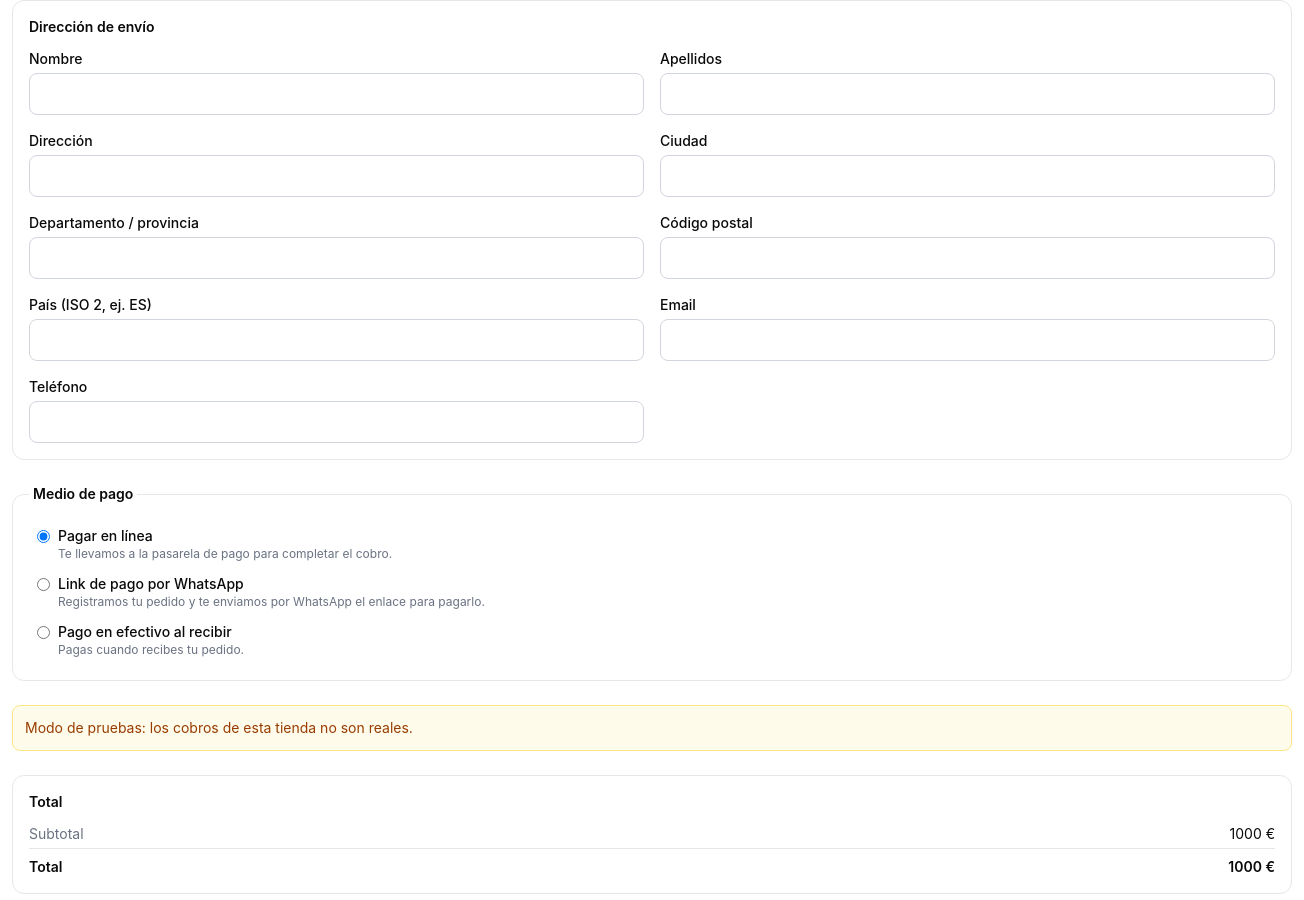
modo de pruebas › avisa solo cuando se paga en línea con una pasarela de pruebas
This screenshot has width=1304, height=900.
Expected: the message reads "Modo de pruebas: los cobros de esta tienda no son reales.", [25,719,413,736]
Click the radio button labelled "Pago en efectivo al recibir Pagas cuando recibes tu pedido.": (44, 632) [37,626,50,639]
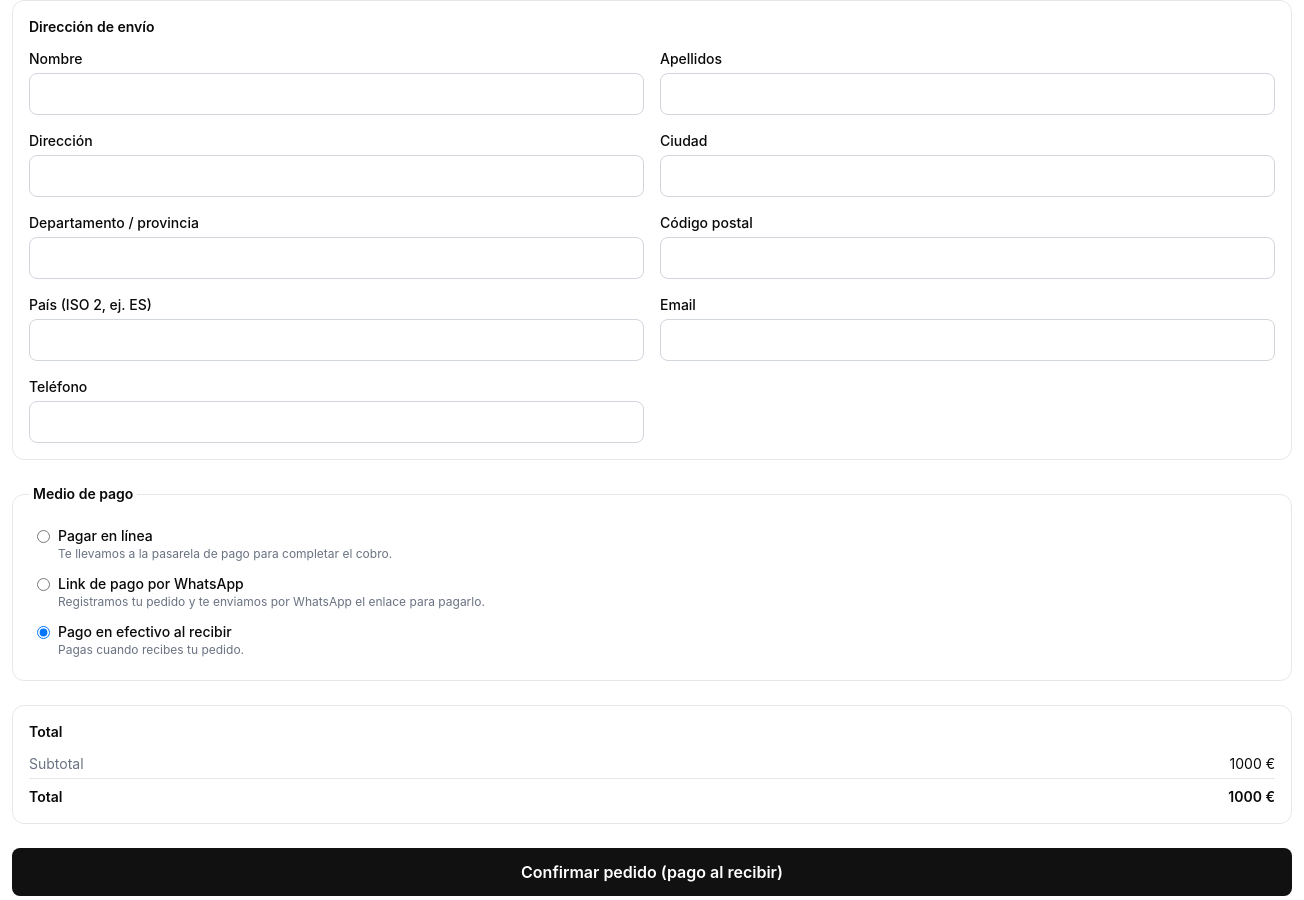
Result: the message "Modo de pruebas: los cobros de esta tienda no son reales." is gone
